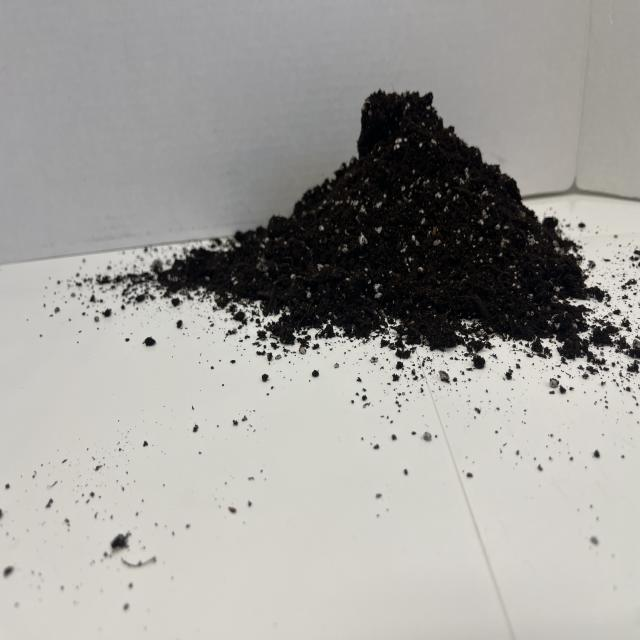soil: (151, 85, 600, 358)
